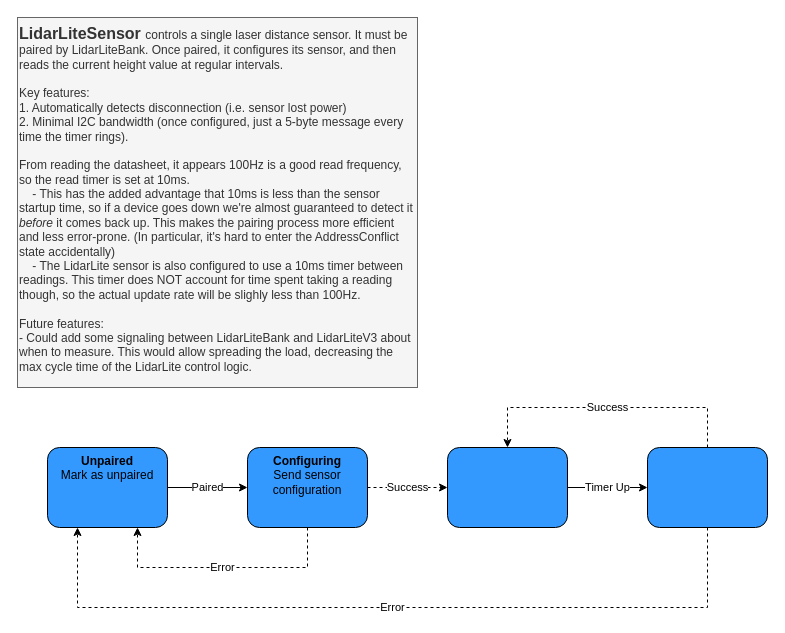
Image size: 785x633. Some labels were removed from this diagram. Each missing label, with the centre of its shape:
Read Read height over I2C: [707,487]
Wait for Read Start timer: [507,487]
